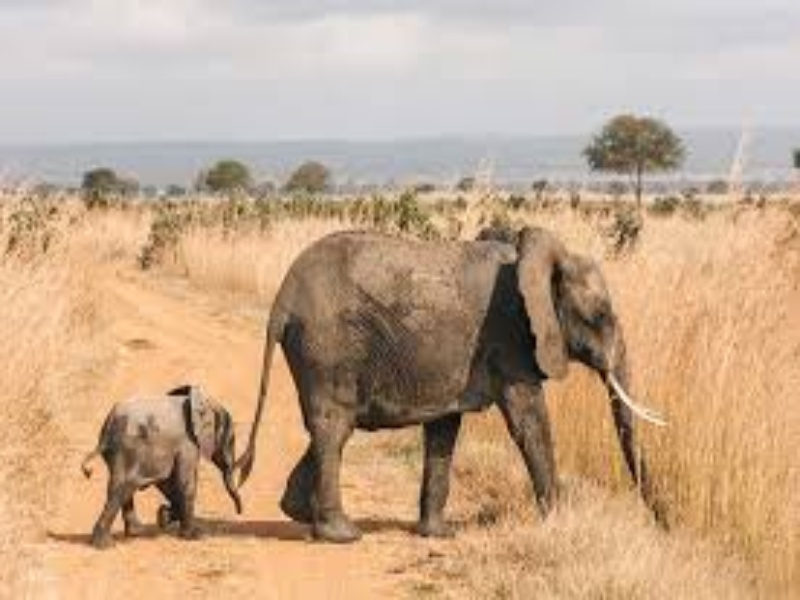elephant: (233, 204, 711, 562), (51, 355, 261, 548)
